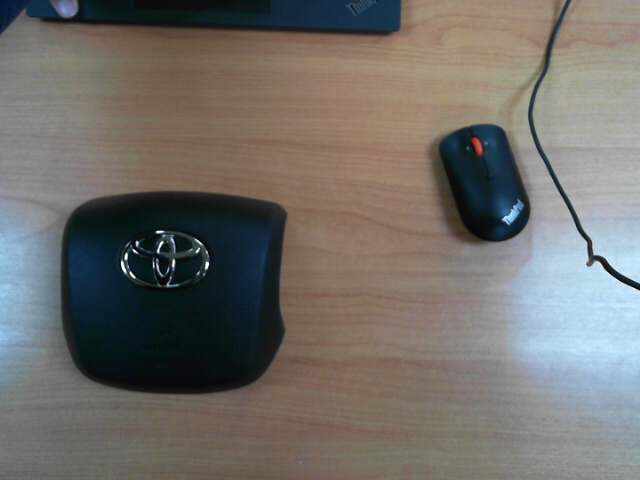AirbagV2: (59, 186, 285, 397)
